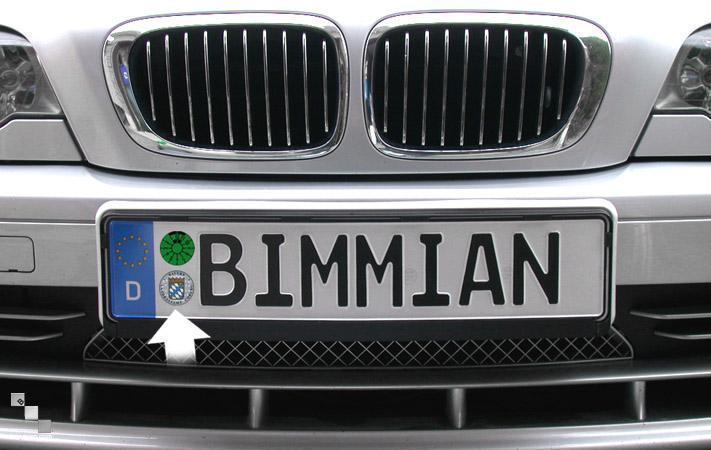placa de veiculo: (81, 188, 644, 356)
